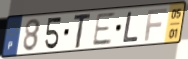5: (44, 17, 63, 51)
8: (22, 17, 41, 53)
E: (91, 12, 117, 48)
F: (143, 8, 169, 43)
L: (121, 11, 140, 44)
T: (72, 12, 93, 51)
